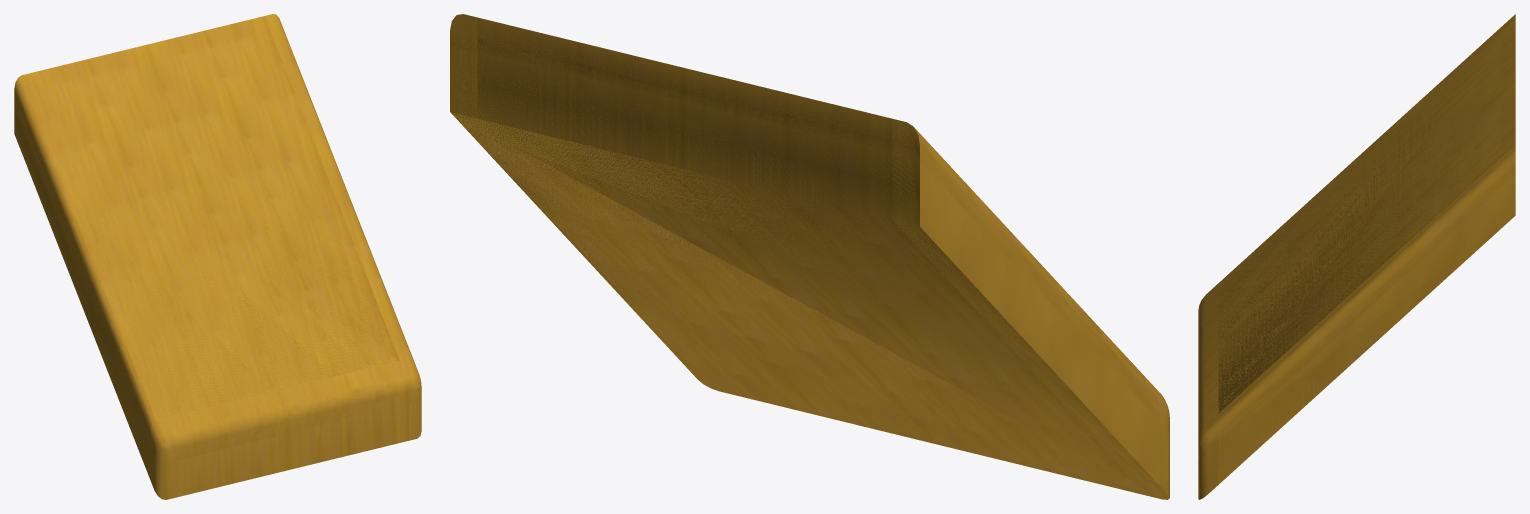
Rendered from Roofs45.fbx.
The picture shows the model from 3 angles, left to right: view 1: azimuth 30°, elevation 25°; view 2: azimuth 150°, elevation 25°; view 3: azimuth 270°, elevation 25°; orthographic projection. The views are drawn at different scales.
Visible parts, largest first — view 1: Roof 45, Roof 45 L, Roof 45 B, Roof 45 L B, Roof 45 LR B, Roof Thick 45 L B, Roof Thick 45 B, Roof Thick 45 L, Roof 45 R B, Roof 45 LR, Roof Thick 45 LR B; view 2: Roof Thick 45 LR B, Roof Thick 45, Roof Thick 45 R, Roof Thick 45 L, Roof Thick 45 L B, Roof 45, Roof 45 L, Roof Thick 45 R B, Roof 45 B, Roof 45 L B, Roof Thick 45 B, Roof 45 LR (+1 smaller); view 3: Roof 45, Roof 45 LR B, Roof Thick 45 LR B, Roof 45 L, Roof Thick 45 R, Roof 45 L B, Roof 45 LR, Roof 45 R B, Roof 45 B, Roof Thick 45 B.
Part boxes in pixels (x1,y1,x2,y2): Roof 45: [30, 16, 399, 417]; Roof 45 L: [14, 17, 398, 434]; Roof 45 B: [31, 17, 408, 454]; Roof 45 L B: [14, 18, 408, 462]; Roof 45 LR B: [17, 14, 421, 462]; Roof Thick 45 L B: [14, 98, 408, 499]; Roof Thick 45 B: [33, 18, 408, 497]; Roof Thick 45 L: [14, 89, 149, 477]; Roof 45 R B: [32, 15, 417, 445]; Roof 45 LR: [24, 14, 414, 417]; Roof Thick 45 LR B: [166, 387, 421, 499]; Roof Thick 45 LR B: [450, 15, 1168, 499]; Roof Thick 45: [477, 19, 1131, 478]; Roof Thick 45 R: [450, 15, 1129, 477]; Roof Thick 45 L: [477, 20, 1159, 485]; Roof Thick 45 L B: [659, 148, 1169, 499]; Roof 45: [477, 17, 892, 153]; Roof 45 L: [477, 18, 1159, 419]; Roof Thick 45 R B: [453, 20, 949, 428]; Roof 45 B: [477, 18, 892, 153]; Roof 45 L B: [915, 128, 1169, 432]; Roof Thick 45 B: [582, 146, 1133, 481]; Roof 45 LR: [450, 14, 919, 160]; Roof 45: [1218, 19, 1515, 413]; Roof 45 LR B: [1198, 19, 1515, 459]; Roof Thick 45 LR B: [1198, 166, 1515, 499]; Roof 45 L: [1218, 14, 1515, 411]; Roof Thick 45 R: [1218, 165, 1515, 484]; Roof 45 L B: [1198, 15, 1515, 431]; Roof 45 LR: [1218, 16, 1515, 443]; Roof 45 R B: [1198, 28, 1515, 441]; Roof 45 B: [1198, 19, 1515, 432]; Roof Thick 45 B: [1199, 36, 1515, 430].
Size of the model in its own units: 3.4 by 3.9 by 3.2.
